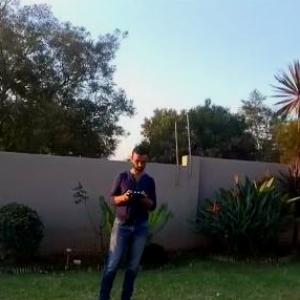follow: (84, 142, 159, 299)
